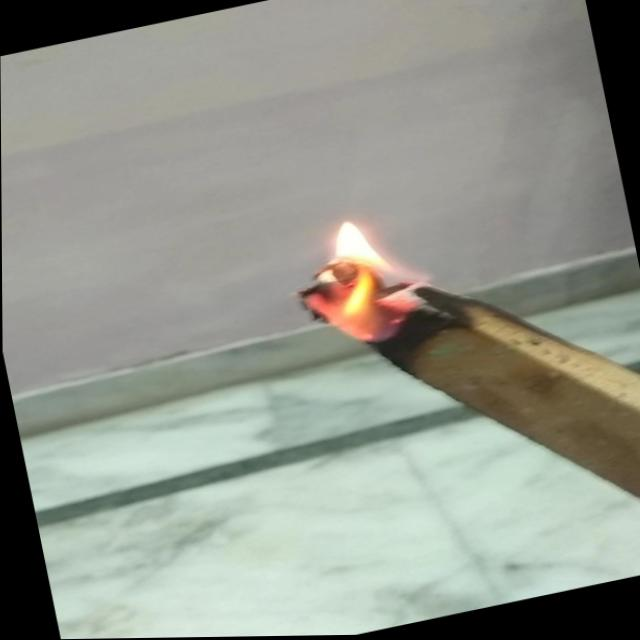fire: (270, 191, 442, 370)
